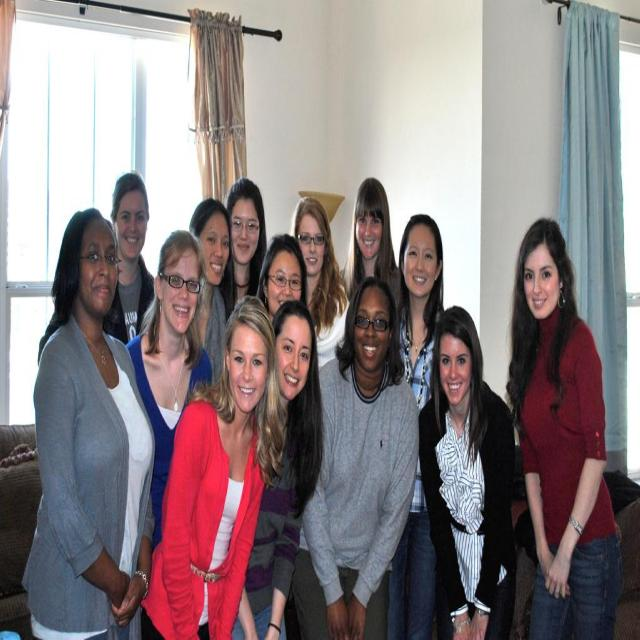nomask: (79, 220, 117, 315), (228, 323, 268, 412), (161, 249, 199, 333), (274, 314, 311, 398), (354, 287, 390, 372), (523, 245, 559, 317), (439, 333, 472, 404), (268, 250, 302, 318), (404, 224, 436, 296), (198, 212, 230, 282), (115, 190, 146, 258), (230, 198, 259, 262), (298, 212, 324, 274), (356, 197, 382, 259)
